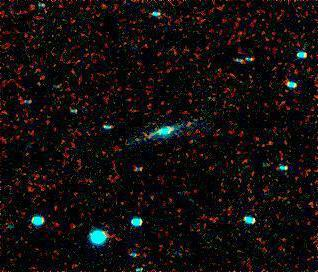star: (176, 109, 206, 139)
